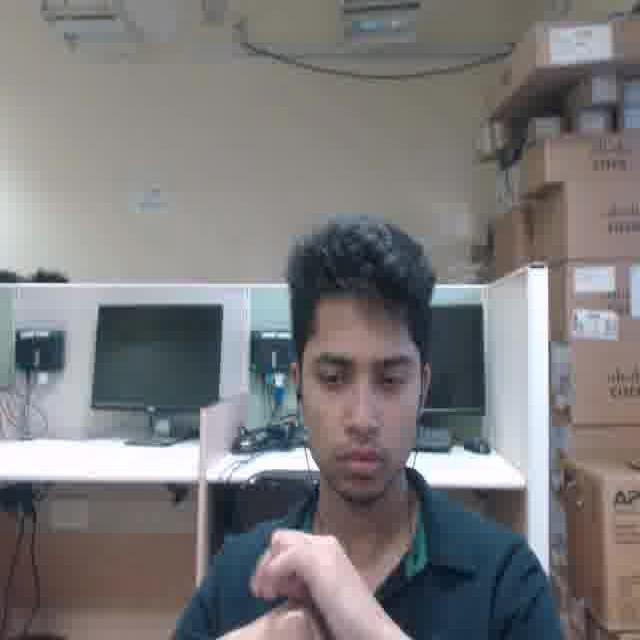Confusion: (296, 300, 414, 497)
